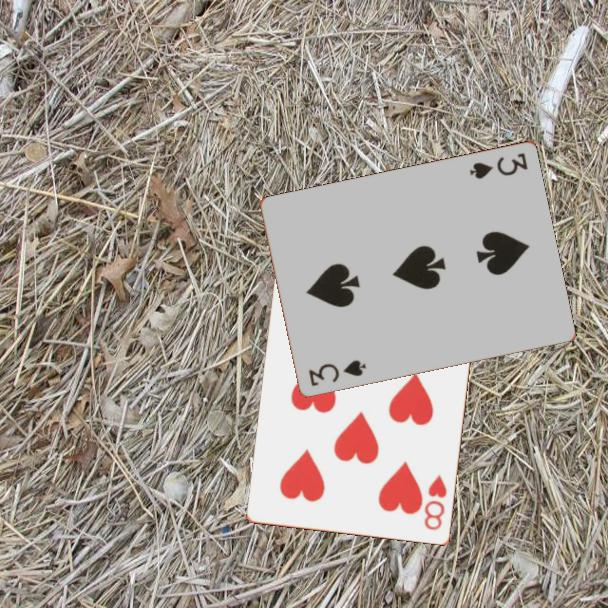h08: (421, 472, 450, 533)
s03: (305, 357, 369, 389), (466, 150, 530, 182)
